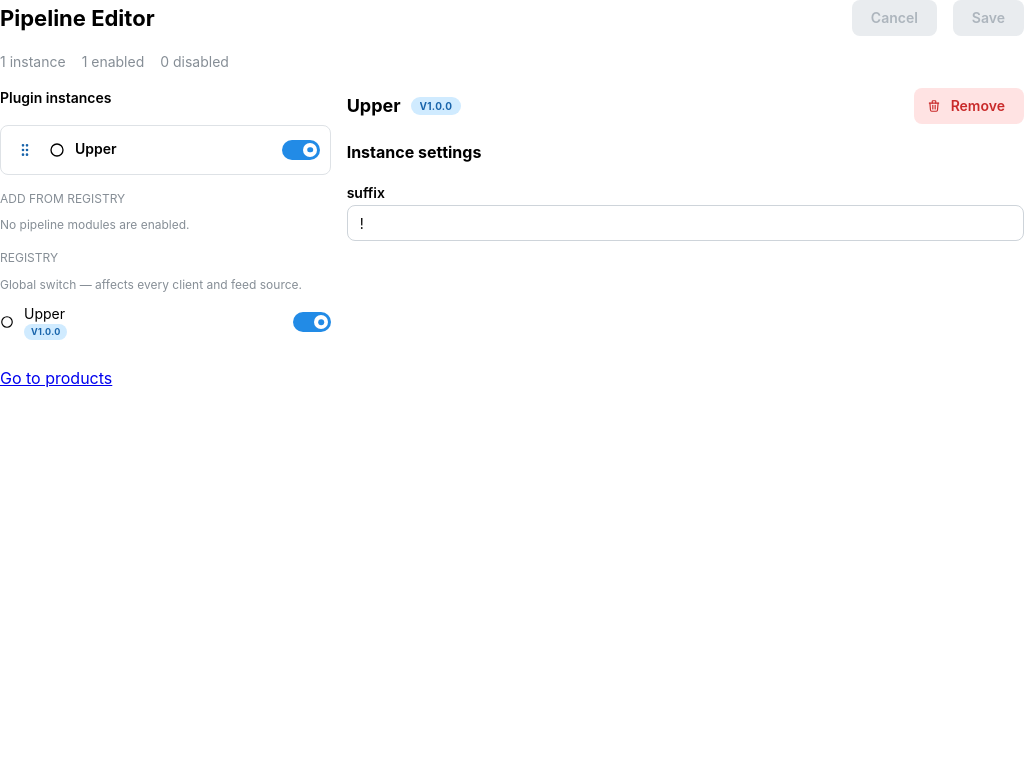
PipelinePage › useBlocker prompts on navigation when dirty
Replace the text in the field labelled "suffix" with "?": (685, 223) [347,205,1023,241]
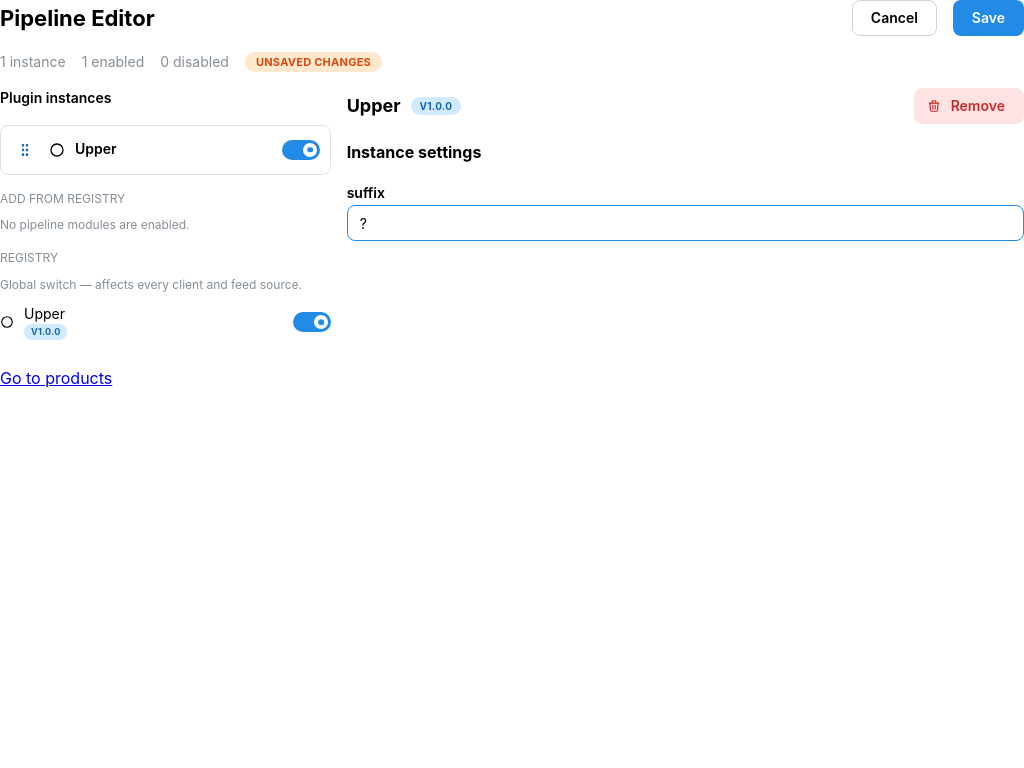
Click the link "Go to products": (56, 378) [0,368,112,388]
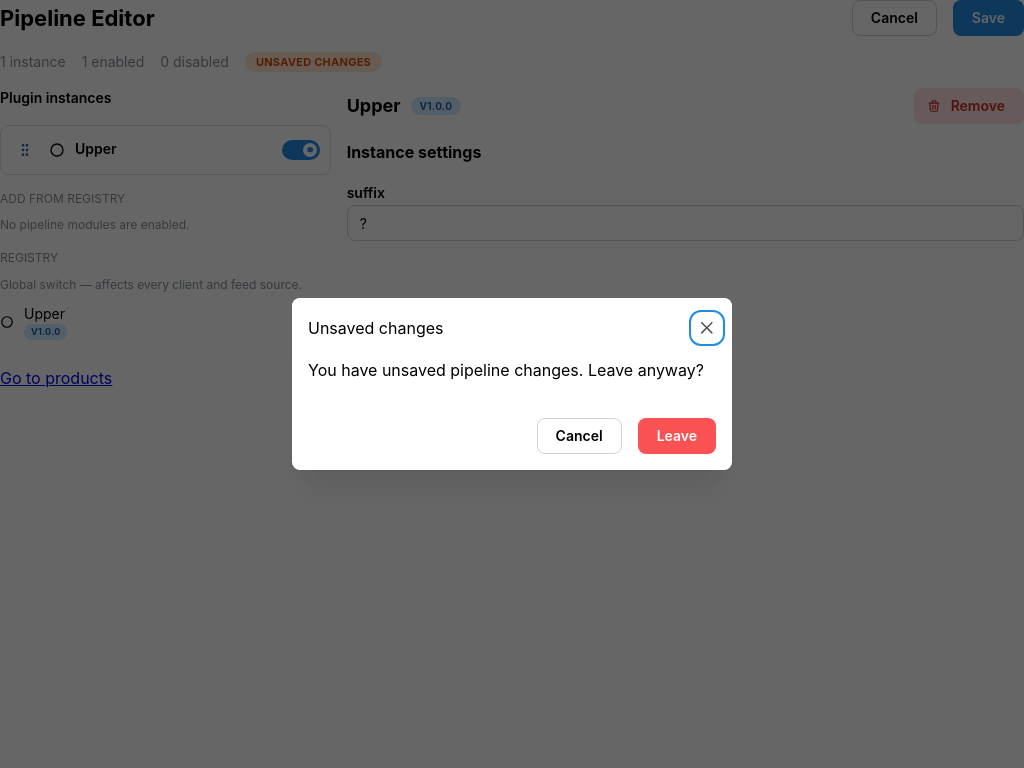
Result: the dialog is shown at [292,298,732,470]
